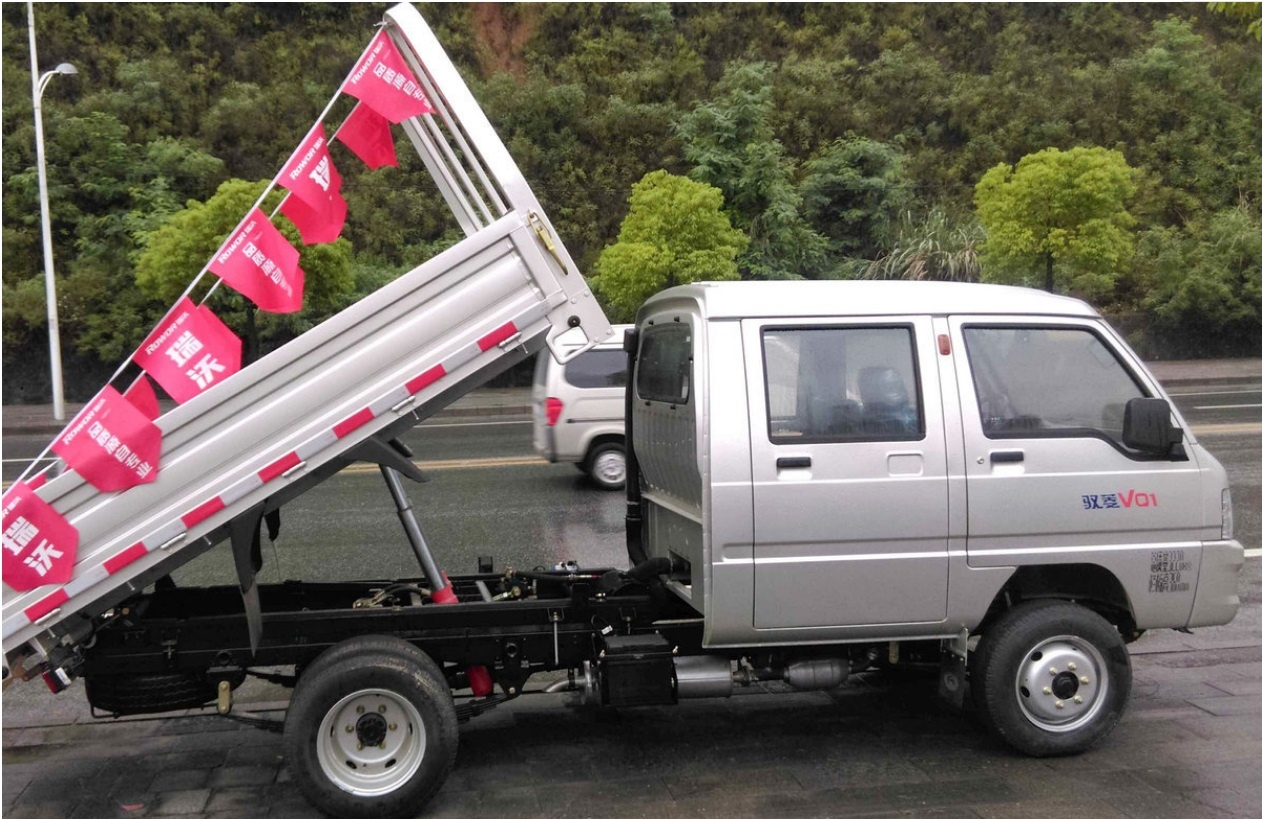truck: (36, 206, 1237, 801)
